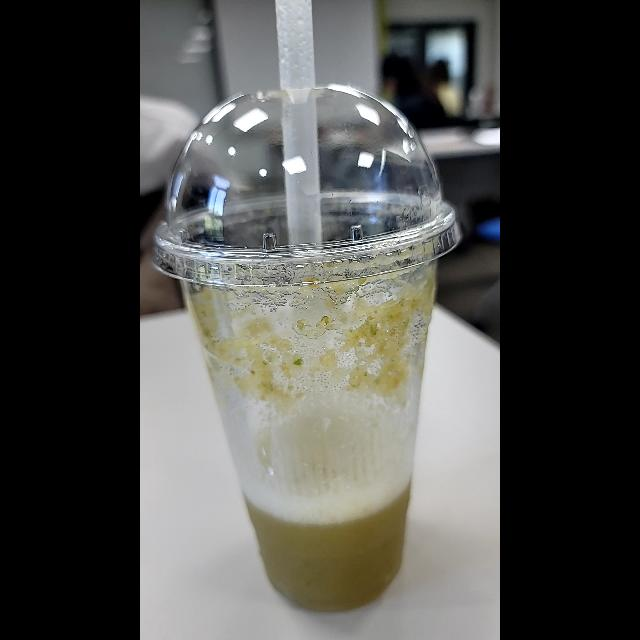plastic_cup: (156, 85, 456, 615)
plastic_cup_lid: (153, 81, 465, 296)
straw: (263, 1, 335, 269)
